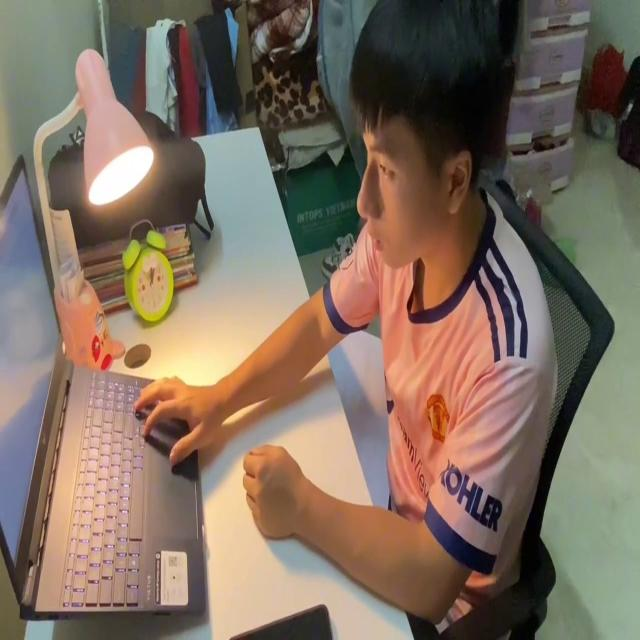laptop: (0, 149, 211, 624)
phone: (206, 598, 335, 640)
student: (126, 0, 560, 624)
